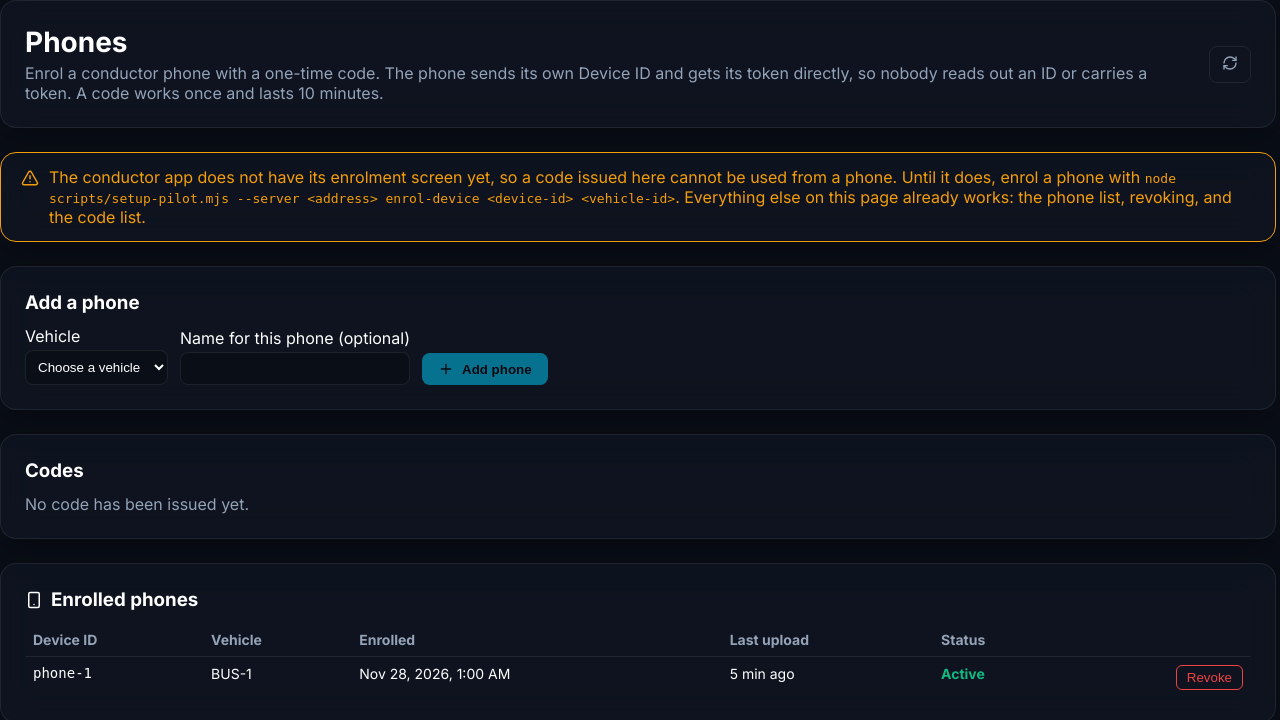
it: Phones: revoking needs a confirmation › sends nothing when it is cancelled, closed with Escape, or dismissed by clicking outside
The image size is (1280, 720).
Click the button "Revoke" at [1209, 678], box [1176, 665, 1243, 690]
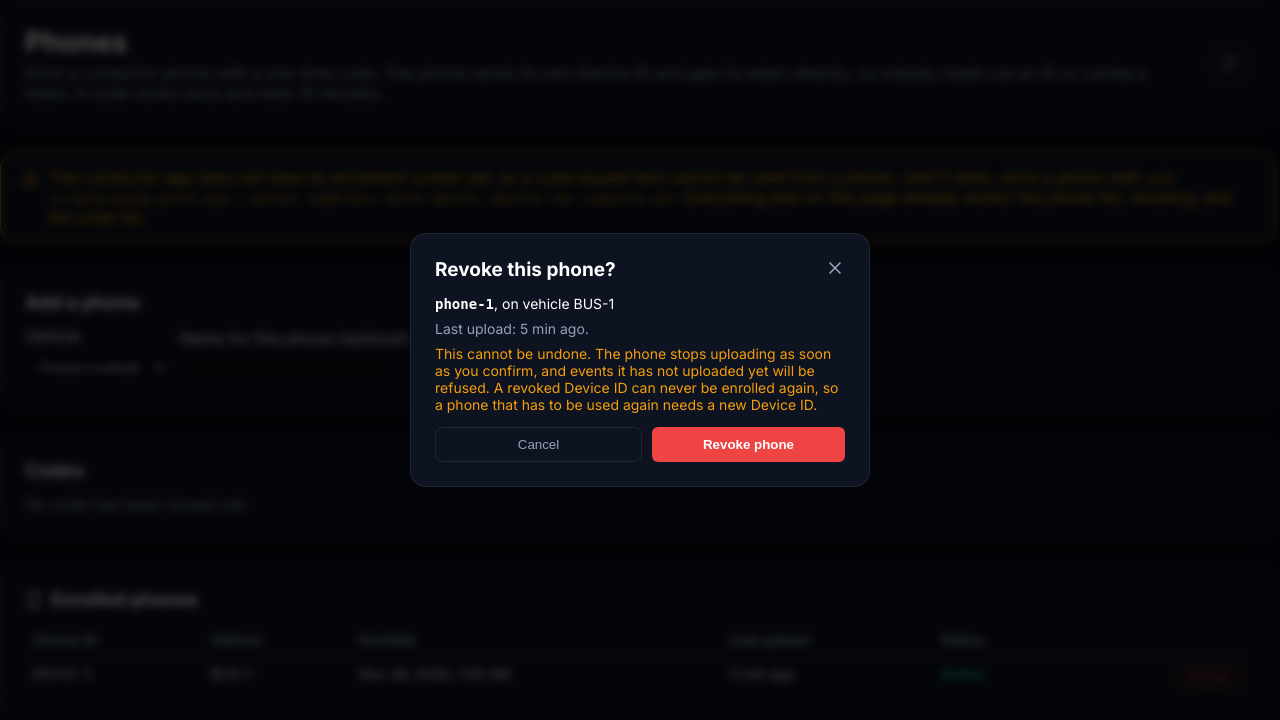
Click the button "Cancel" at [538, 444], box [435, 427, 642, 462]
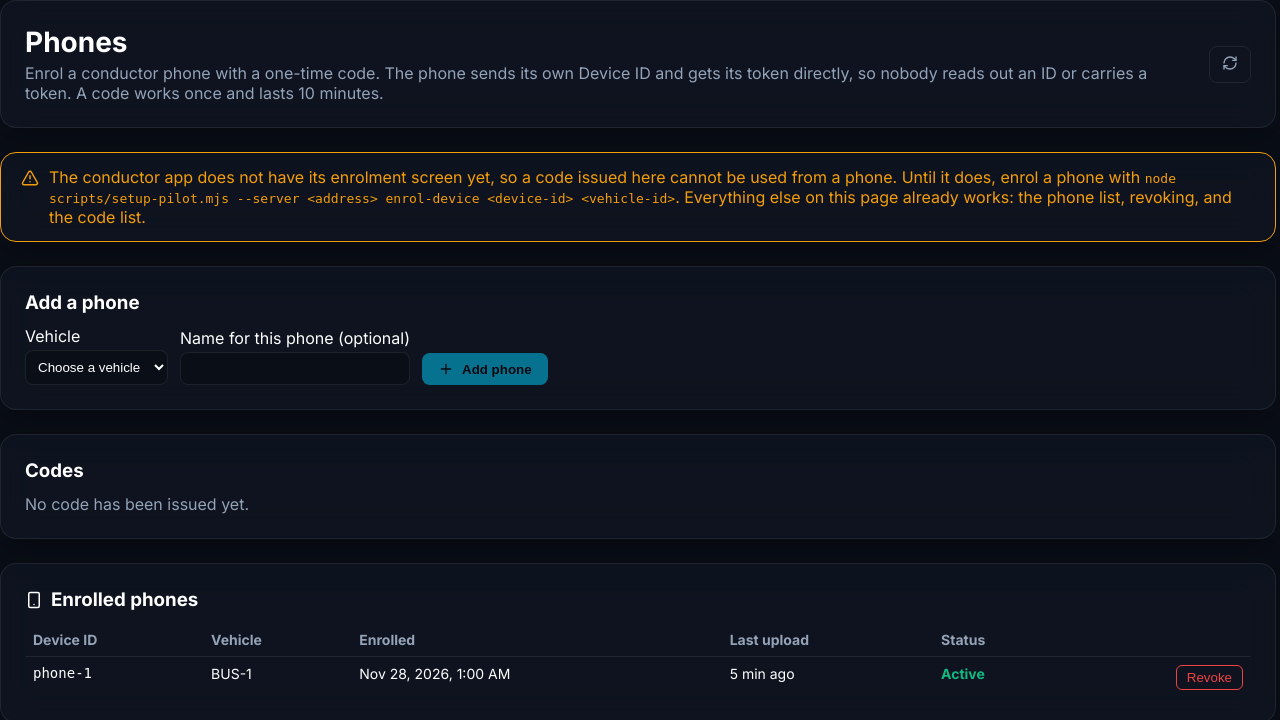
Check: the dialog is gone
Click the button "Revoke" at [1209, 678], box [1176, 665, 1243, 690]
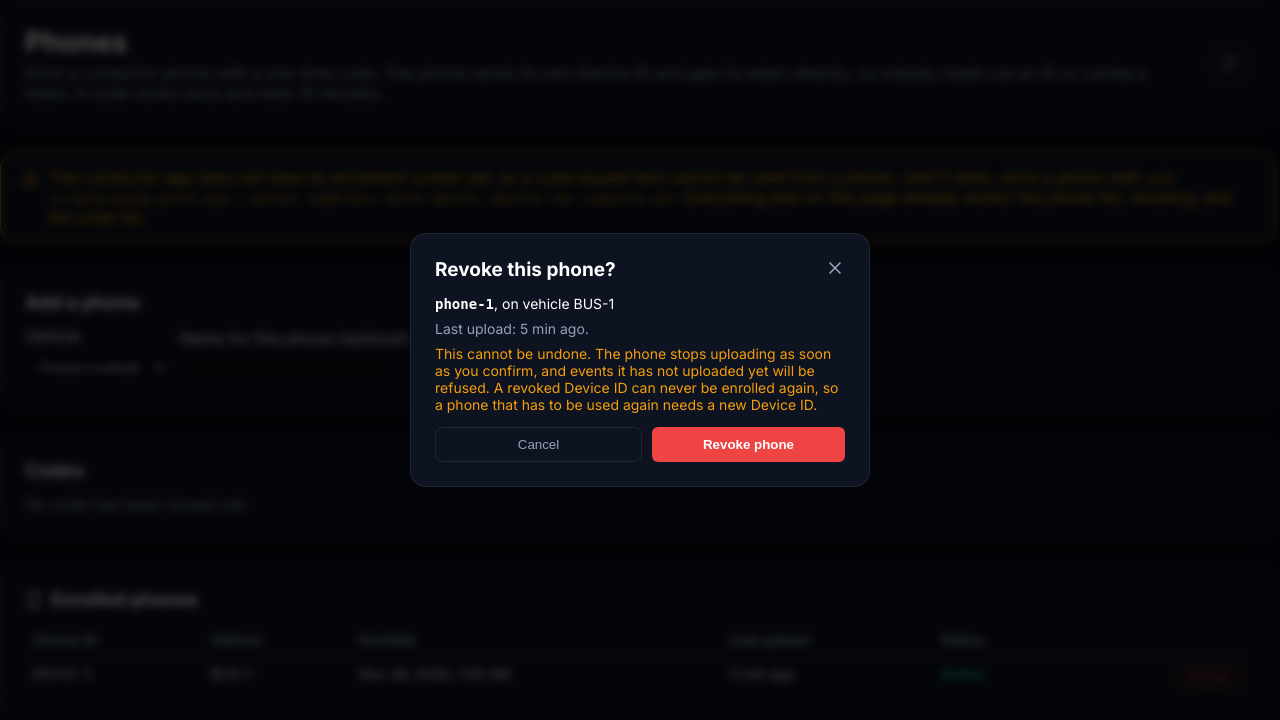
Press Escape
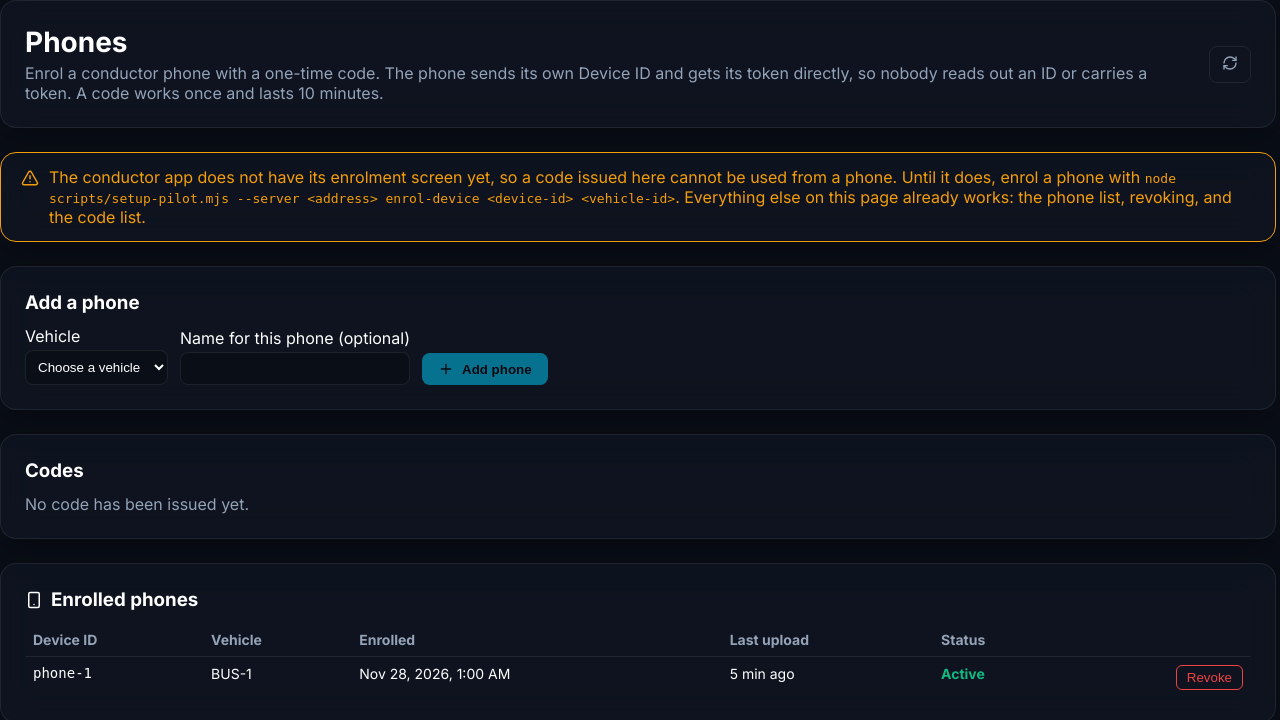
Check: the dialog is gone
Click the button "Revoke" at [1209, 678], box [1176, 665, 1243, 690]
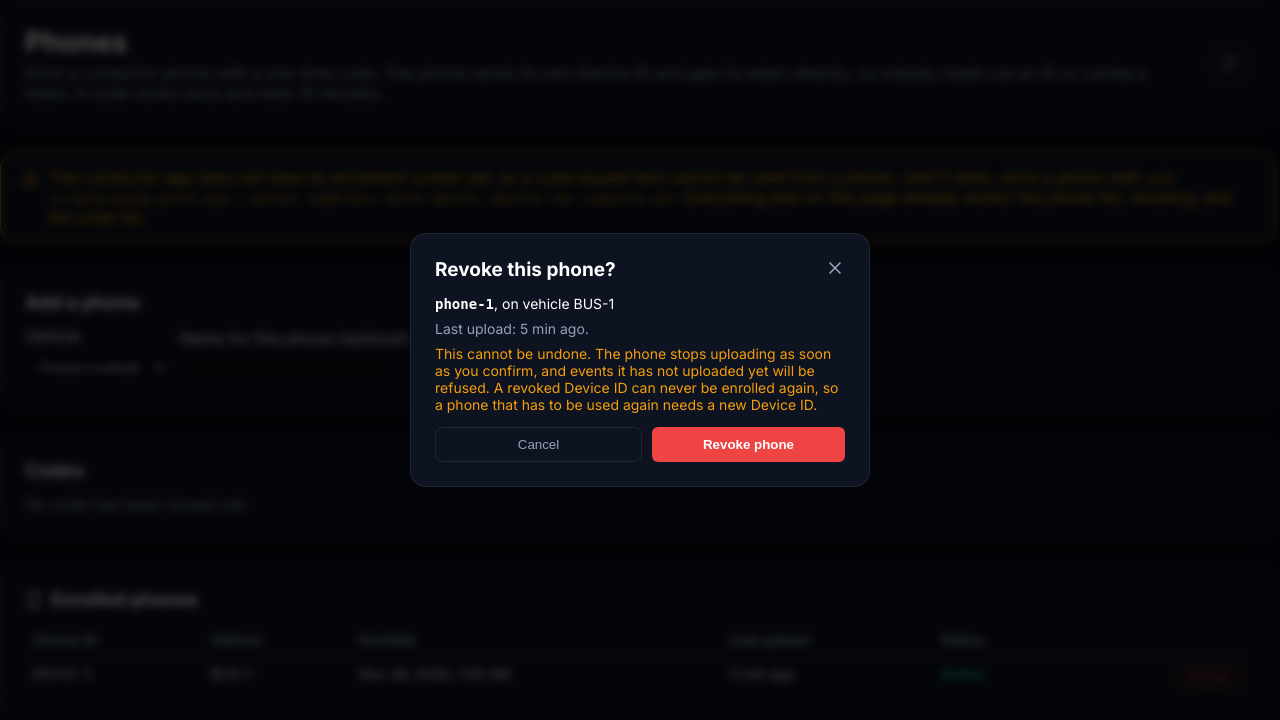
Press the mouse on the element that starts with "Revoke this phone?" at [640, 360], box [0, 0, 1279, 719]
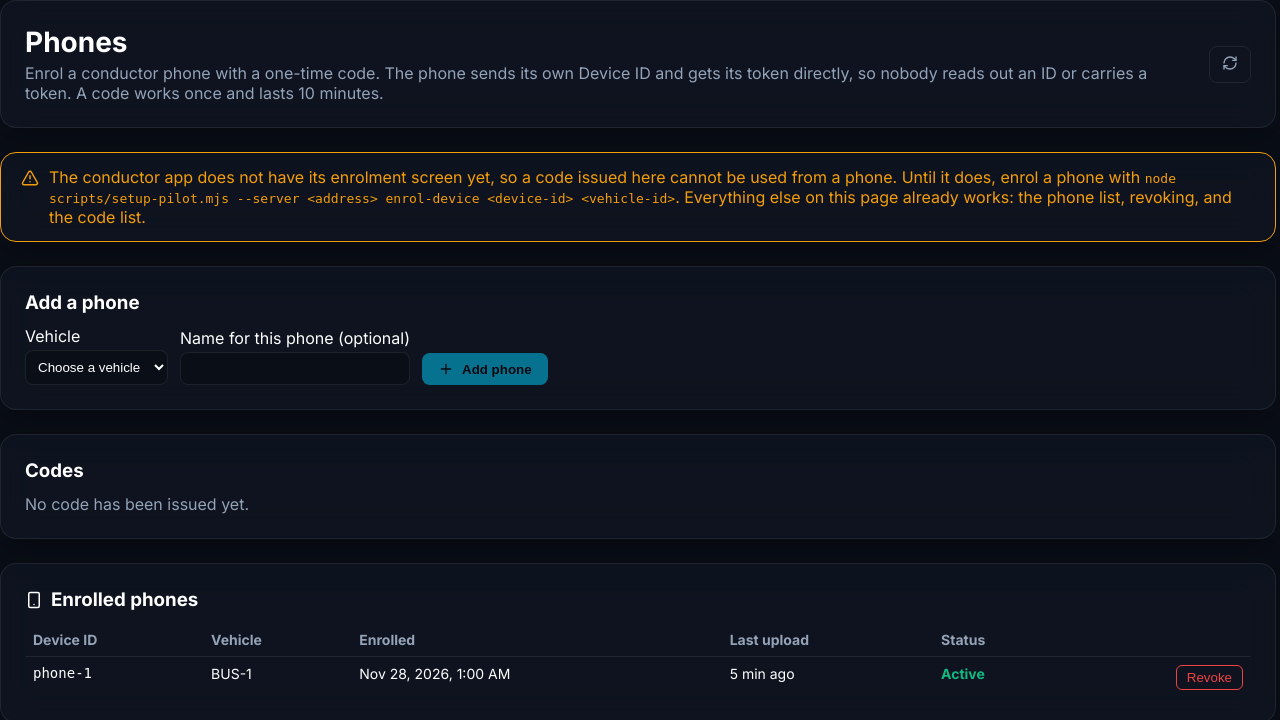
Check: the text "Active" is shown, box [933, 656, 1066, 698]
Check: the dialog is gone
